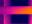Hotspot: (8, 6, 31, 15)
